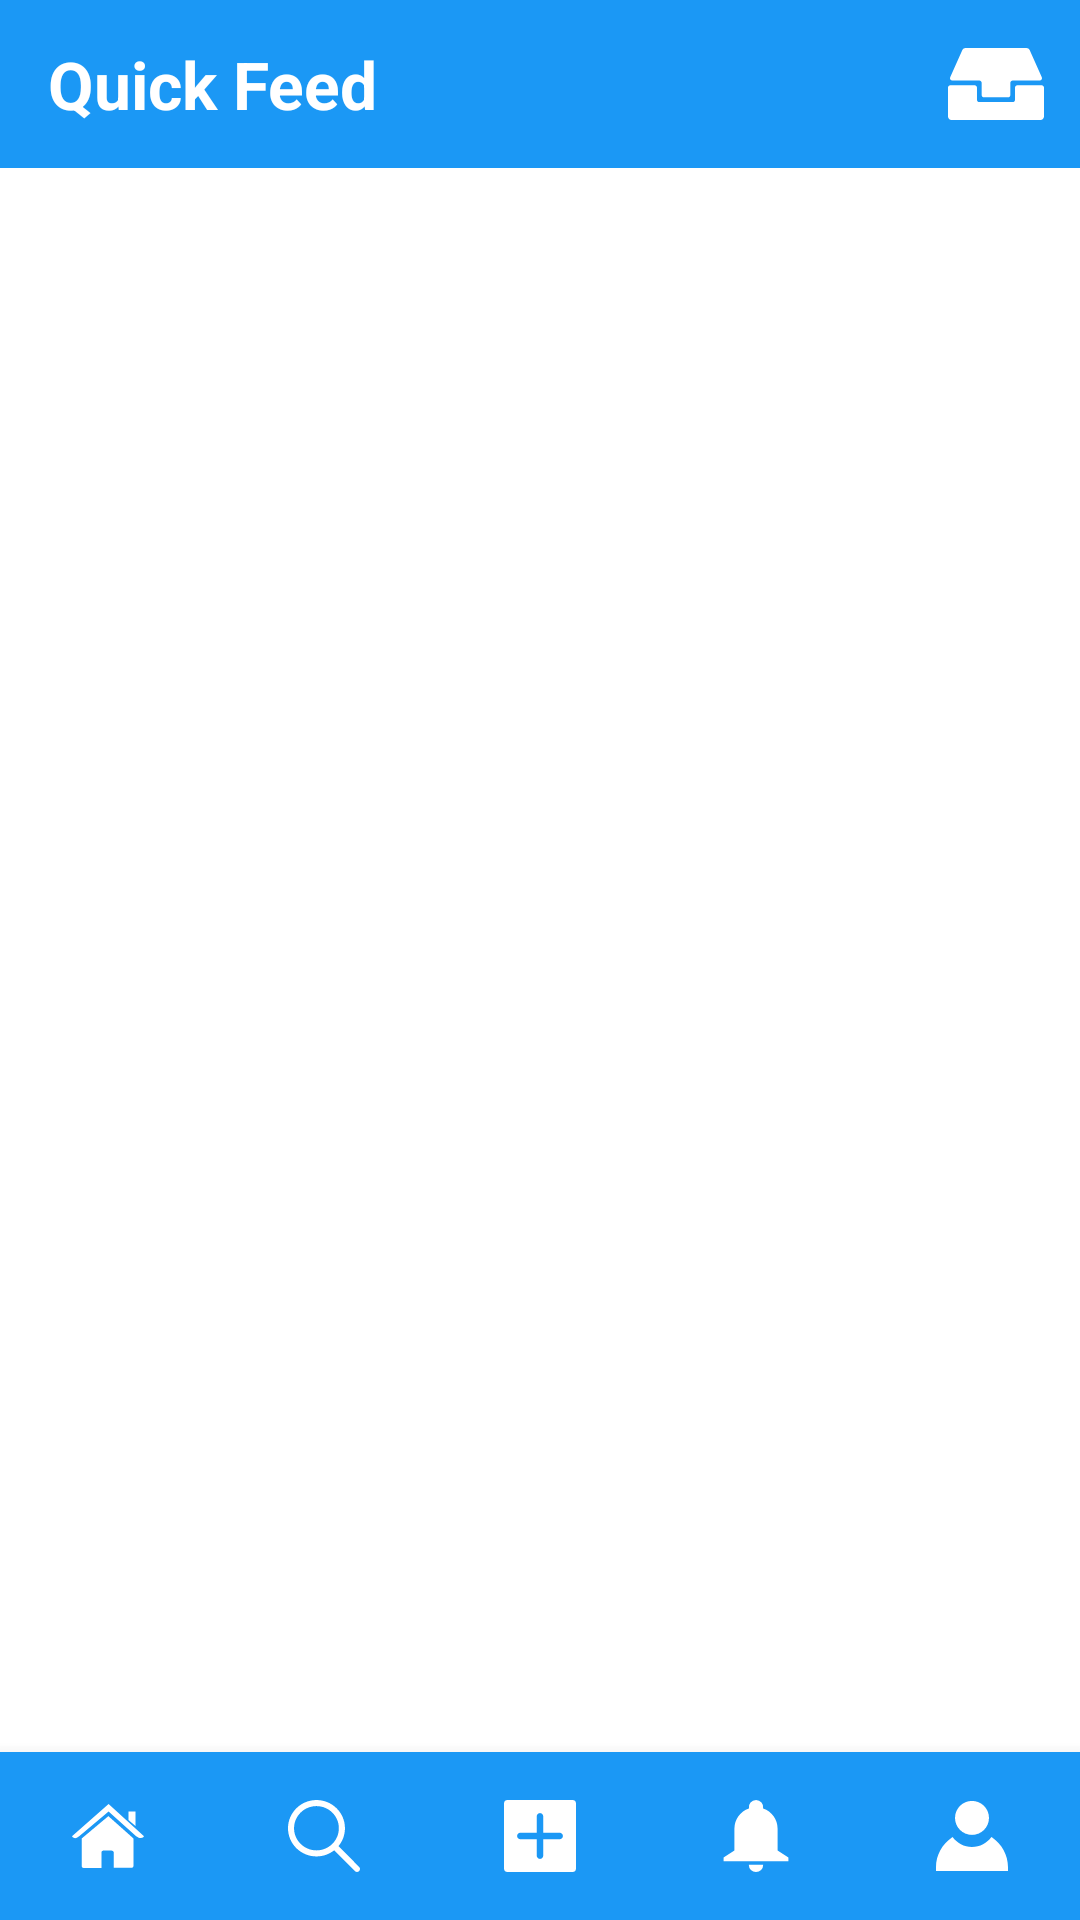

Icon bounding boxes for this 1080px x 1920px phone screenshot, format (x1, y1, x2, y2):
inbox: (948, 48, 1044, 120)
